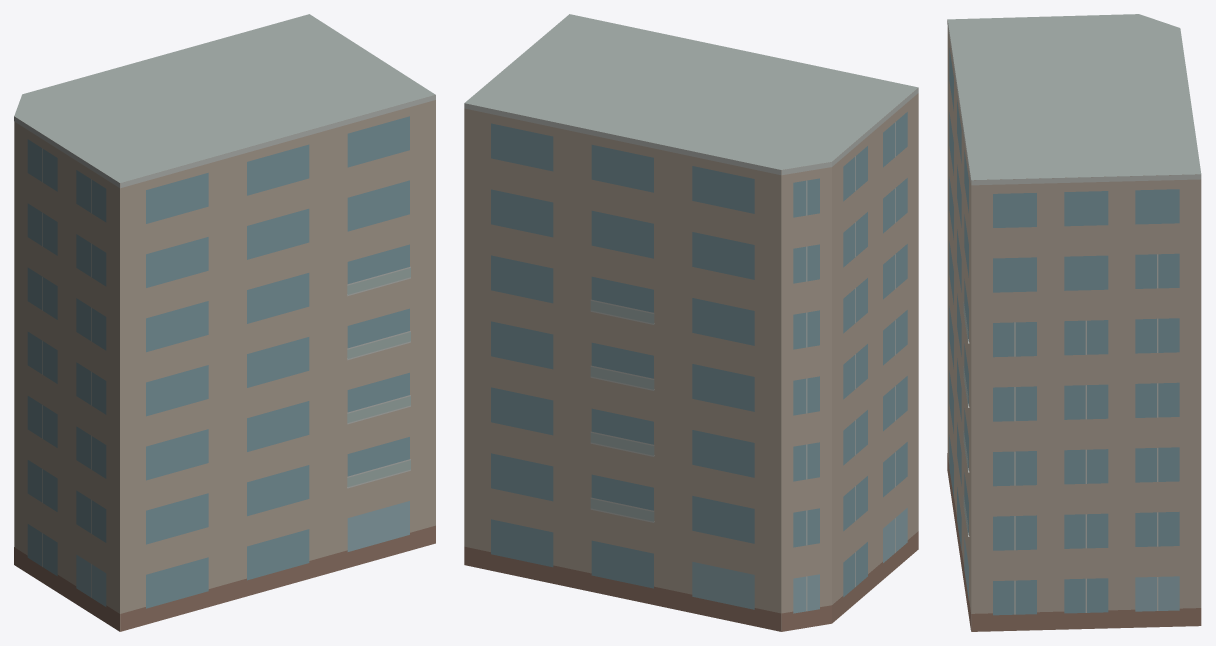
The model's file is survey-upis-32745225.glb.
3 renders of one model, left to right at view 1: azimuth 30°, elevation 25°; view 2: azimuth 150°, elevation 25°; view 3: azimuth 270°, elevation 25°, orthographic. The views are drawn at different scales.
Parts seen in each view (by area): view 1: survey-upis-32745225.tmp; view 2: survey-upis-32745225.tmp; view 3: survey-upis-32745225.tmp.
Part boxes in pixels (x1,y1,x2,y2): survey-upis-32745225.tmp: [14, 14, 435, 631]; survey-upis-32745225.tmp: [464, 14, 918, 631]; survey-upis-32745225.tmp: [947, 14, 1201, 631].
Bounding box in the file's own units: 16.86 × 21.35 × 10.88.
